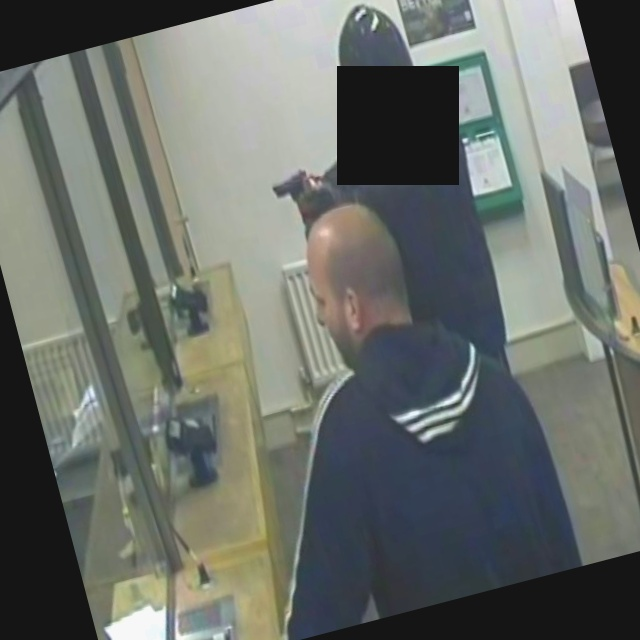gun: (262, 153, 325, 219)
